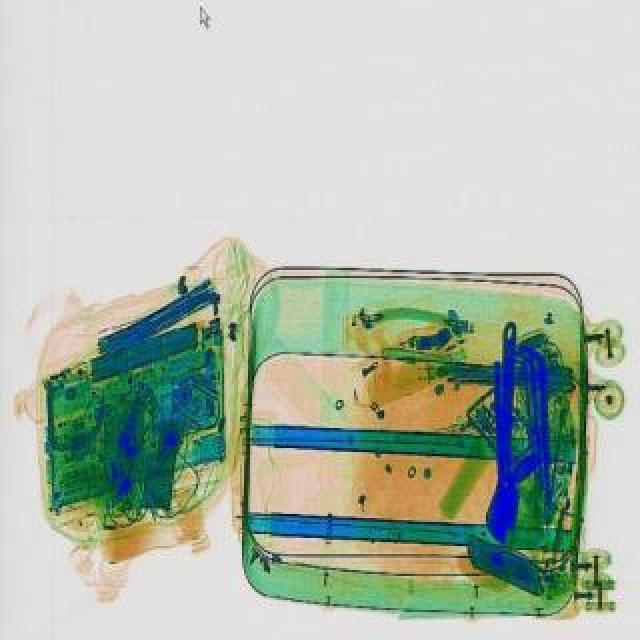scissors: (484, 320, 528, 544)
